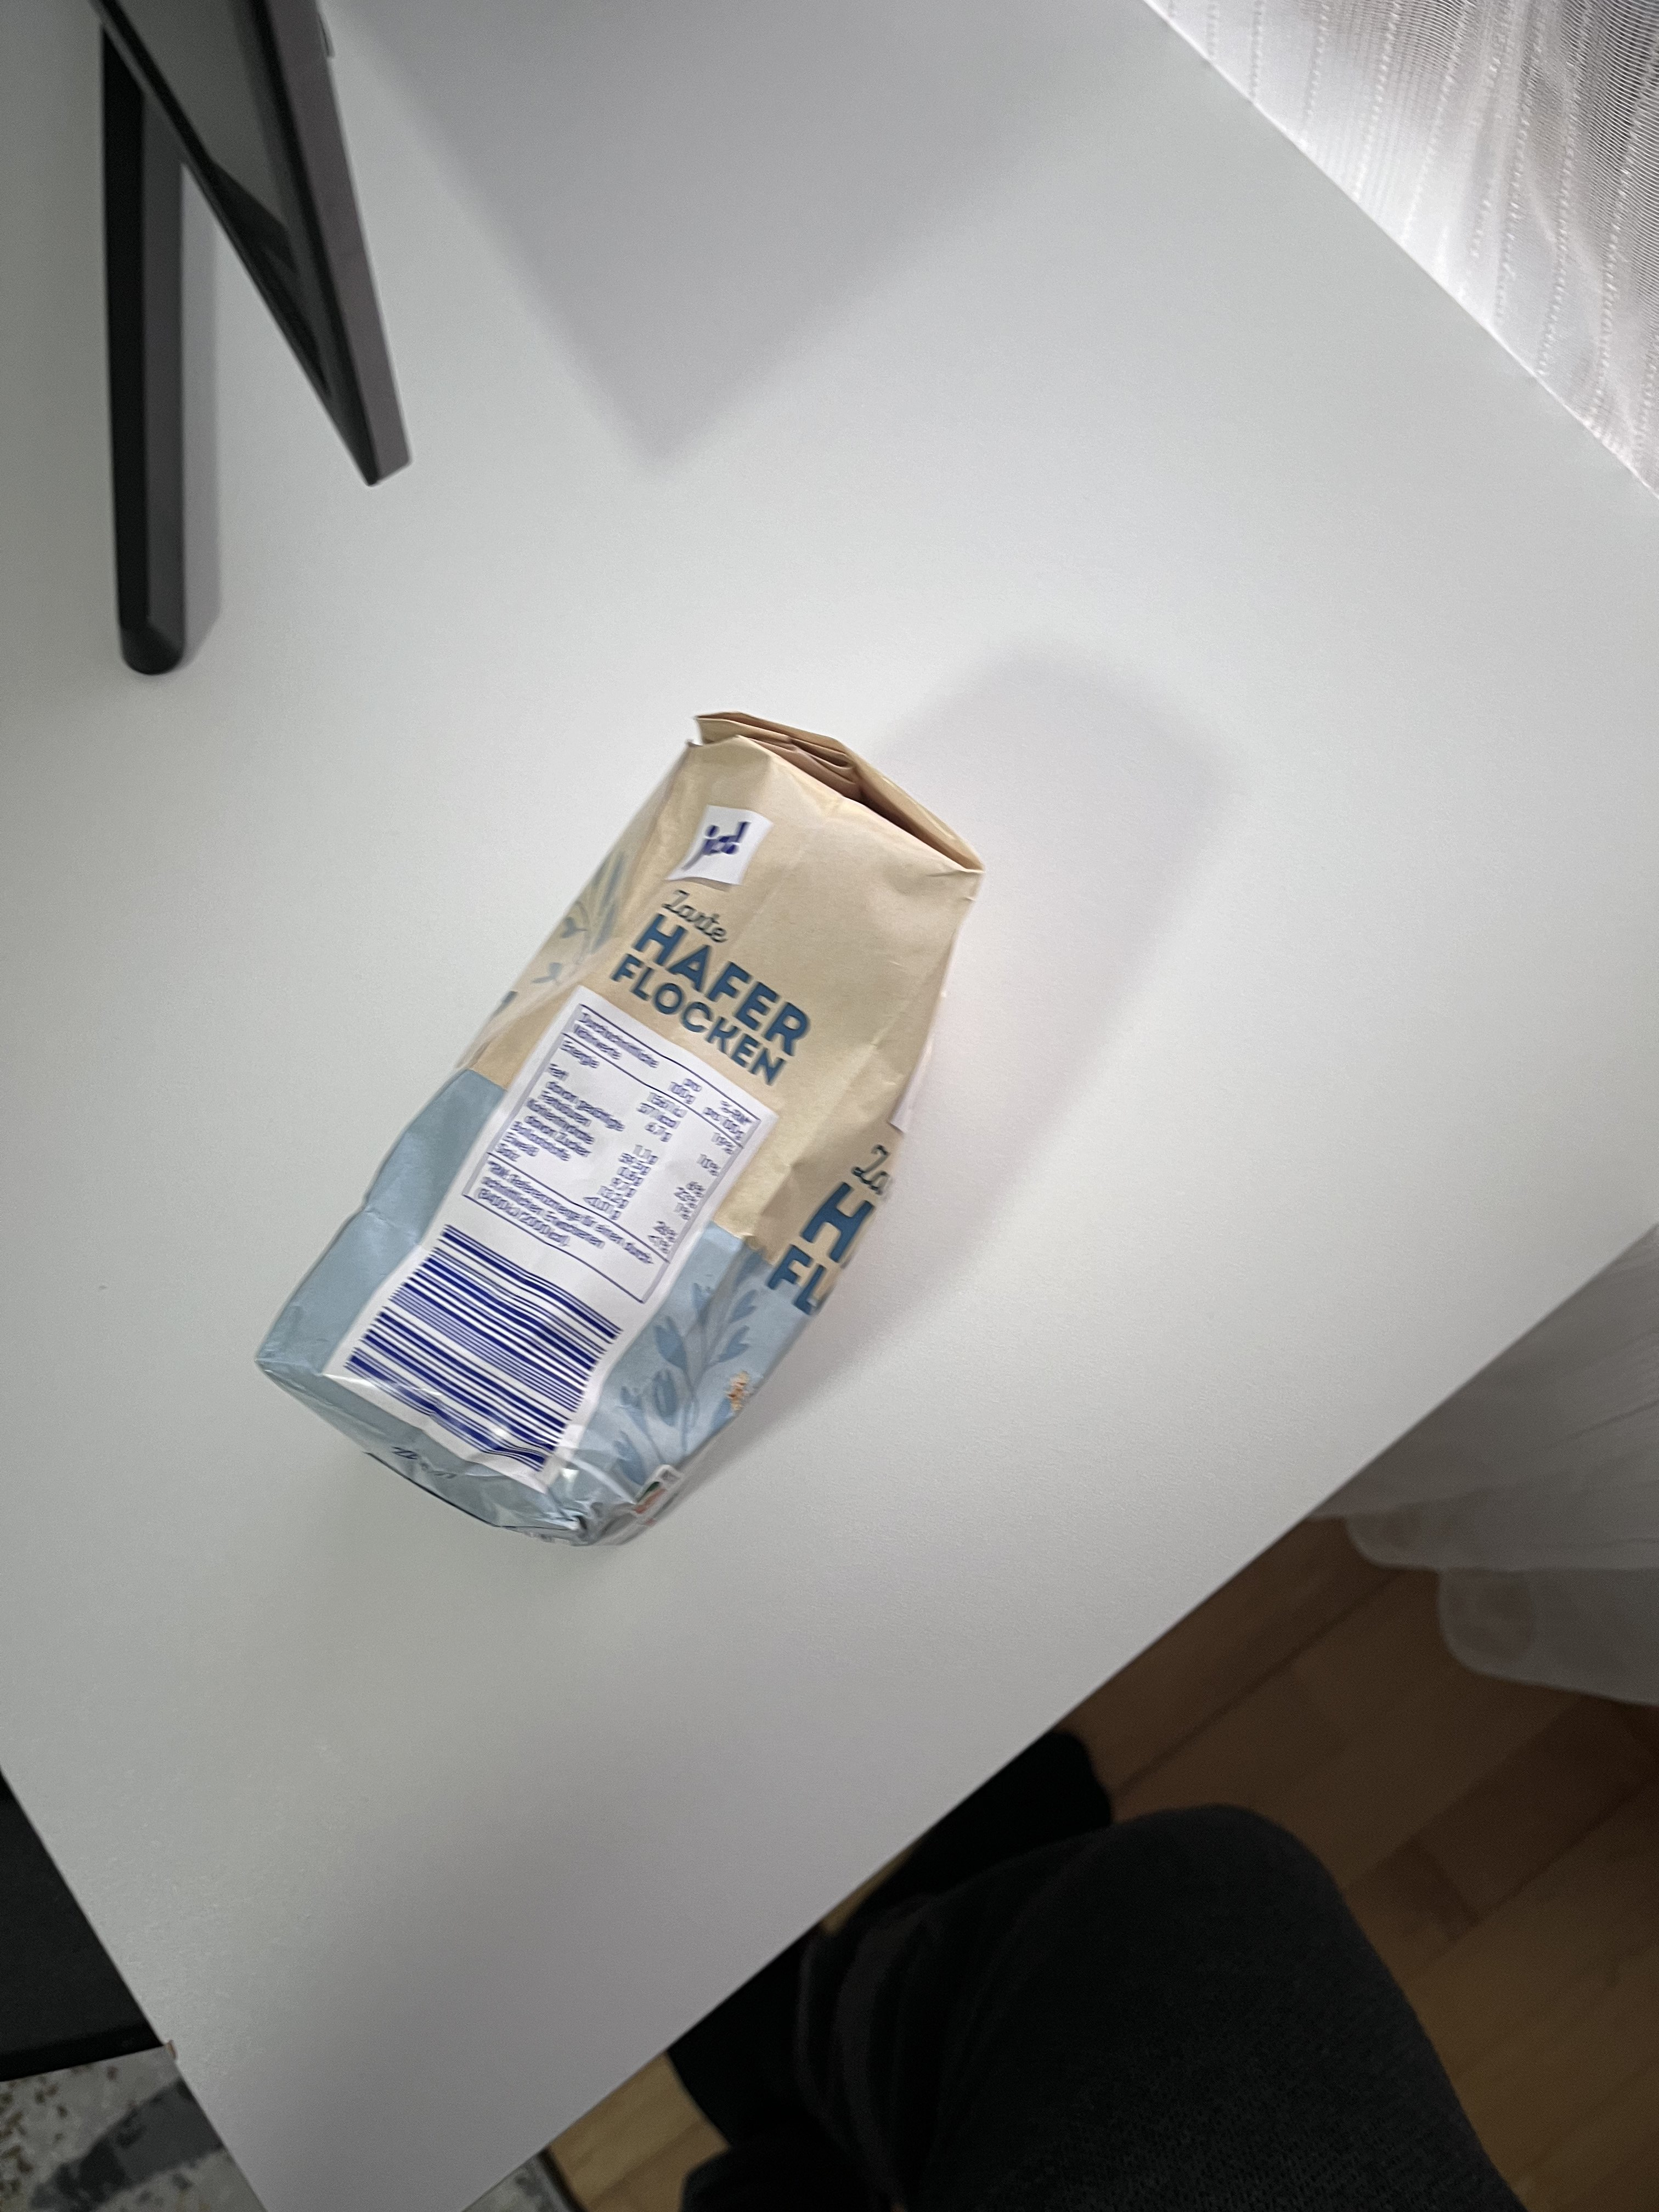haferflocken_ja: (256, 711, 983, 1541)
